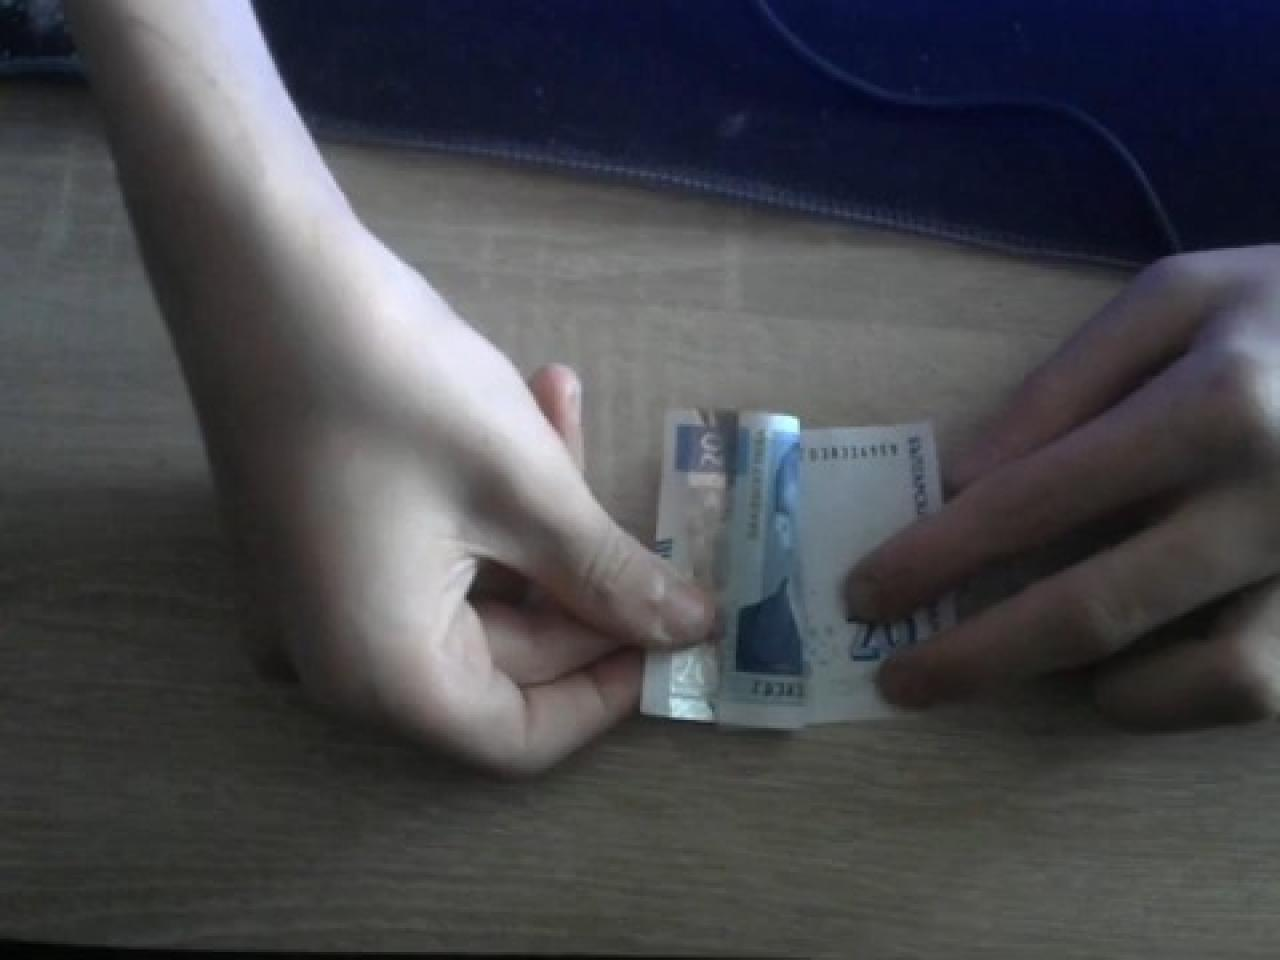20leva: (640, 410, 899, 733)
